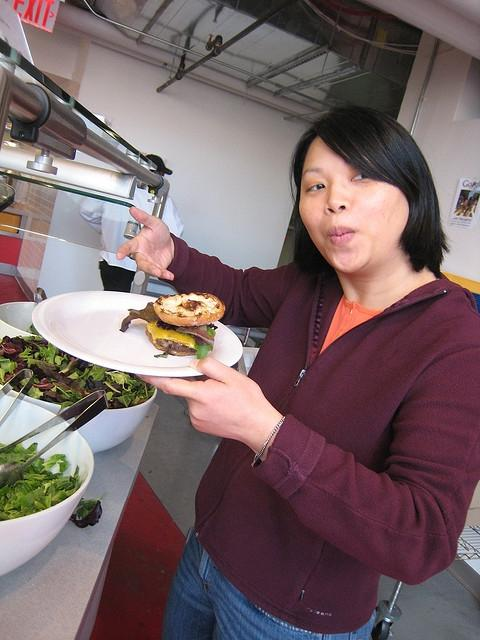lettuce: (29, 358, 90, 394), (0, 482, 52, 521), (27, 363, 70, 391), (68, 500, 103, 528), (78, 492, 107, 518), (194, 326, 216, 359), (0, 453, 30, 465), (112, 392, 132, 408), (42, 471, 64, 482), (18, 346, 34, 359), (55, 482, 74, 492), (47, 482, 56, 498), (30, 324, 38, 336), (49, 384, 57, 392), (64, 372, 72, 377)
